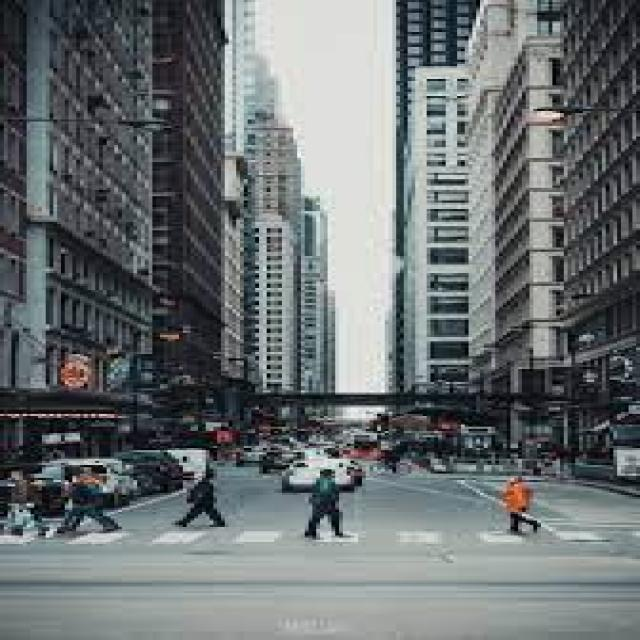Pedestrians: (57, 476, 122, 535), (305, 467, 354, 538), (488, 472, 541, 536), (179, 471, 229, 527)
